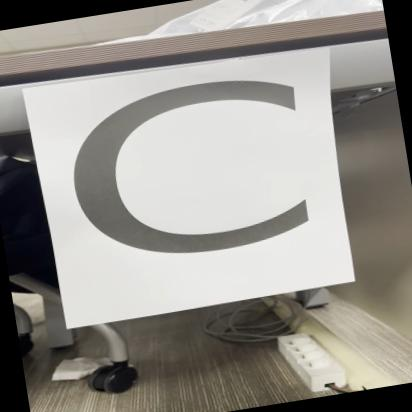seat: (28, 43, 362, 324)
